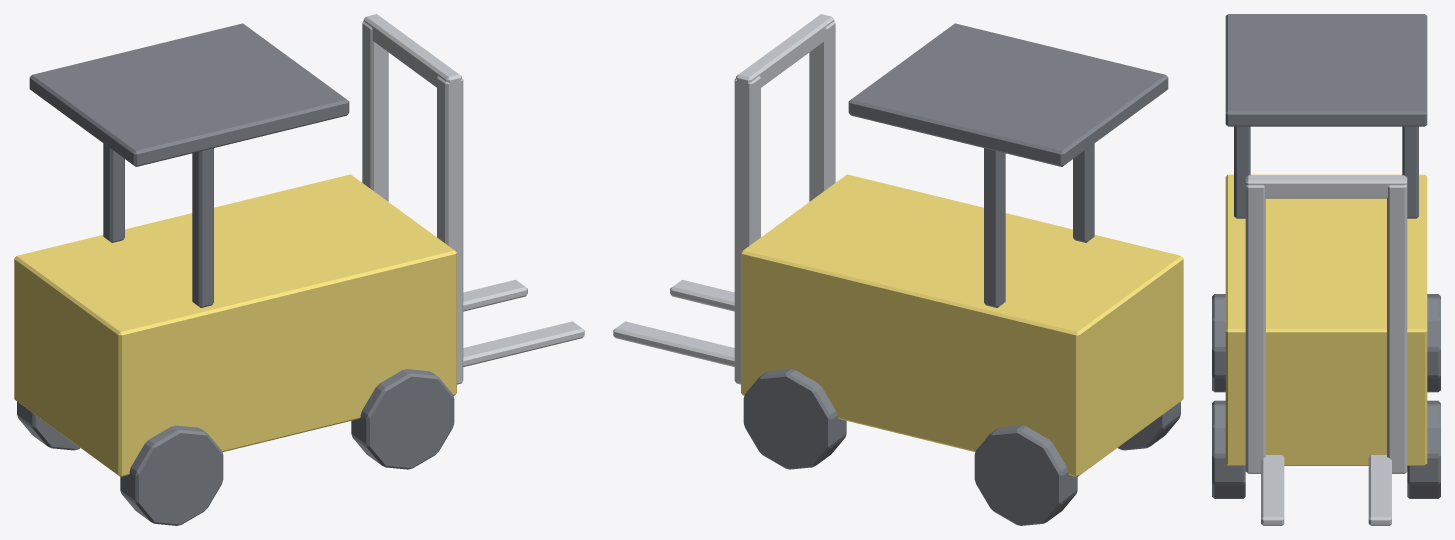
The picture shows the model from 3 angles, left to right: view 1: azimuth 30°, elevation 25°; view 2: azimuth 150°, elevation 25°; view 3: azimuth 270°, elevation 25°; orthographic projection. The views are drawn at different scales.
Visible parts, largest first — view 1: 车体, 驾驶棚, 车轮.014, 门架, 货叉; view 2: 车体, 驾驶棚, 车轮.014, 门架, 货叉; view 3: 车体, 驾驶棚, 门架, 车轮.014, 货叉.
Part boxes in pixels (x1,y1,x2,y2): 车体: [14, 174, 456, 476]; 驾驶棚: [29, 23, 349, 307]; 车轮.014: [17, 369, 454, 525]; 门架: [362, 14, 463, 384]; 货叉: [463, 279, 584, 366]; 车体: [741, 174, 1183, 476]; 驾驶棚: [848, 23, 1168, 307]; 车轮.014: [743, 369, 1180, 525]; 门架: [734, 14, 835, 384]; 货叉: [613, 279, 734, 366]; 车体: [1225, 174, 1427, 465]; 驾驶棚: [1225, 14, 1427, 218]; 门架: [1245, 175, 1407, 473]; 车轮.014: [1212, 294, 1440, 498]; 货叉: [1261, 455, 1391, 525].
Bounding box in the file's own units: 315 × 235 × 136.
